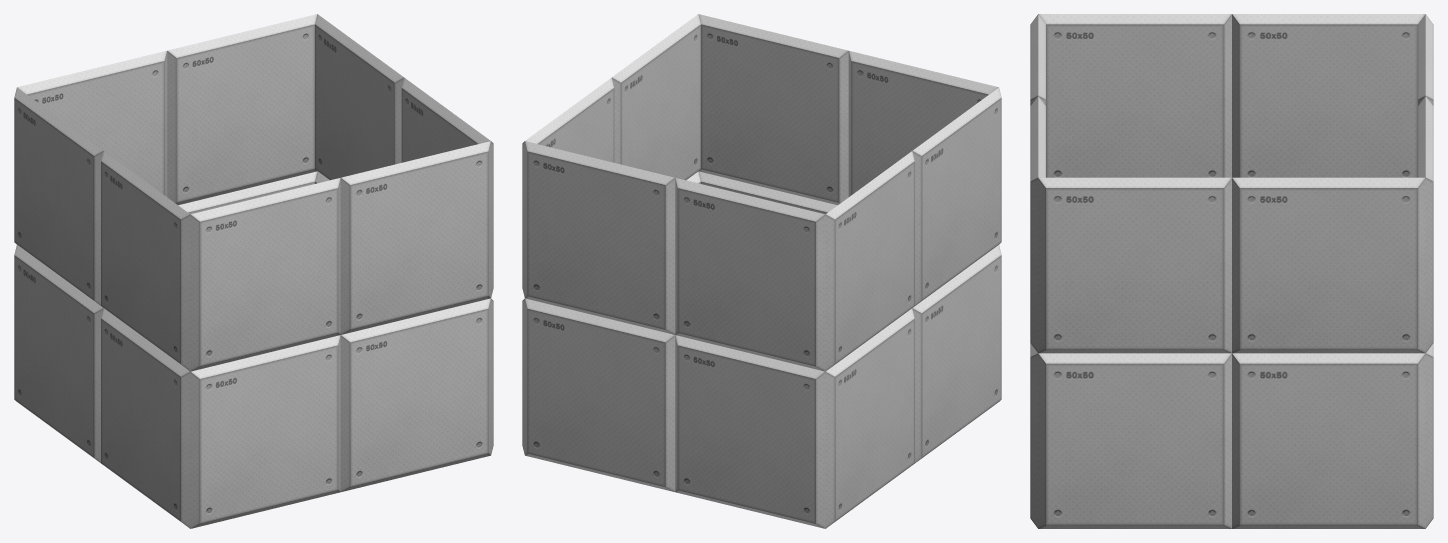
3 views of the same model, side by side, from view 1: azimuth 30°, elevation 25°; view 2: azimuth 150°, elevation 25°; view 3: azimuth 270°, elevation 25° (orthographic). The views are drawn at different scales.
Parts seen in each view (by area): view 1: Box25; view 2: Box25; view 3: Box25.
Boxes of the visible parts, x1,y1,x2,y2 form: Box25: (14, 14, 493, 528); Box25: (522, 14, 1001, 528); Box25: (1030, 14, 1433, 528).
Bounding box in the file's own units: 104 × 100 × 104.
1 material, 1 textured.
